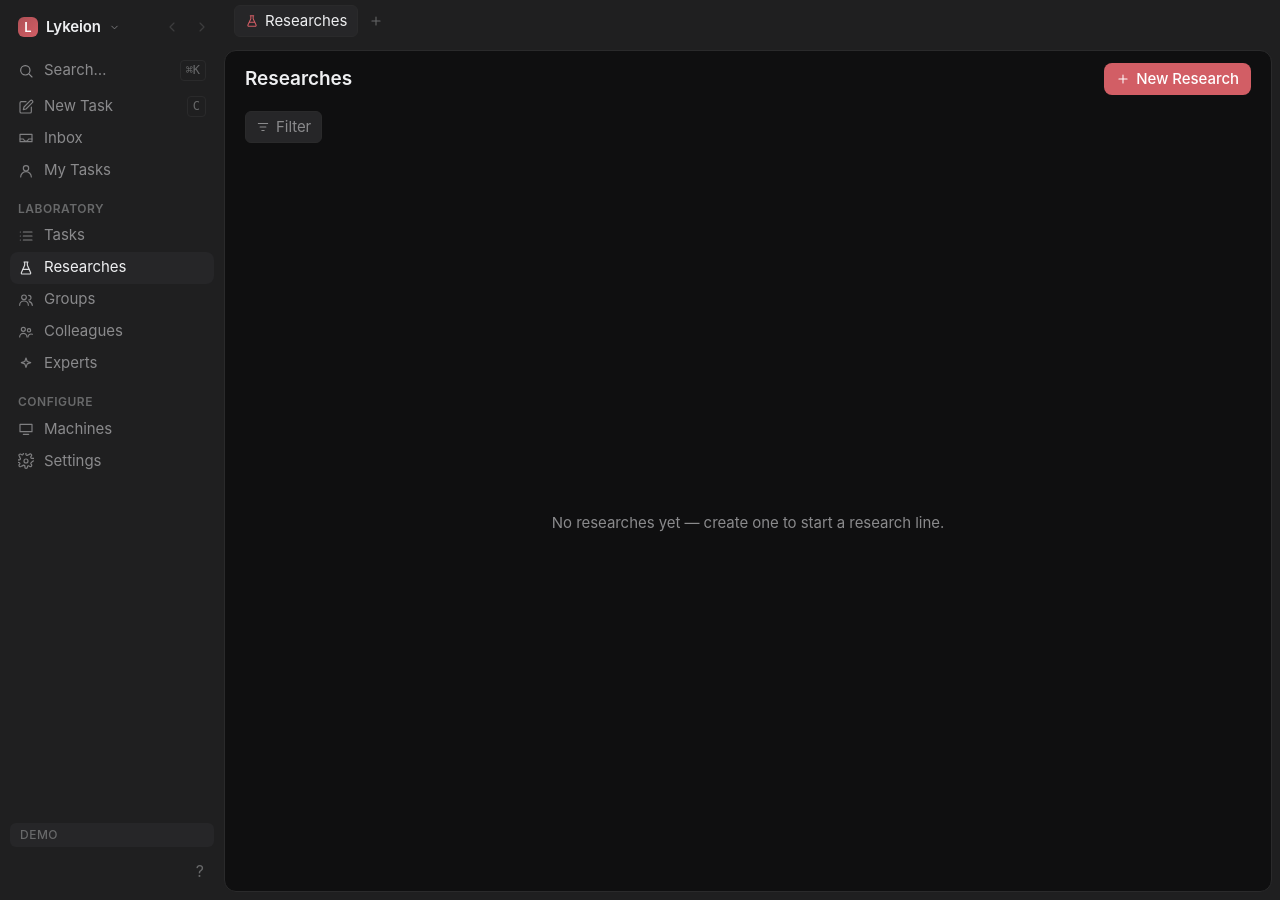
Test case: opens the account menu populated from currentUser()
This screenshot has width=1280, height=900.
Click the button with aria-label "Workspace".
click(69, 27)  # box [10,10,128,44]
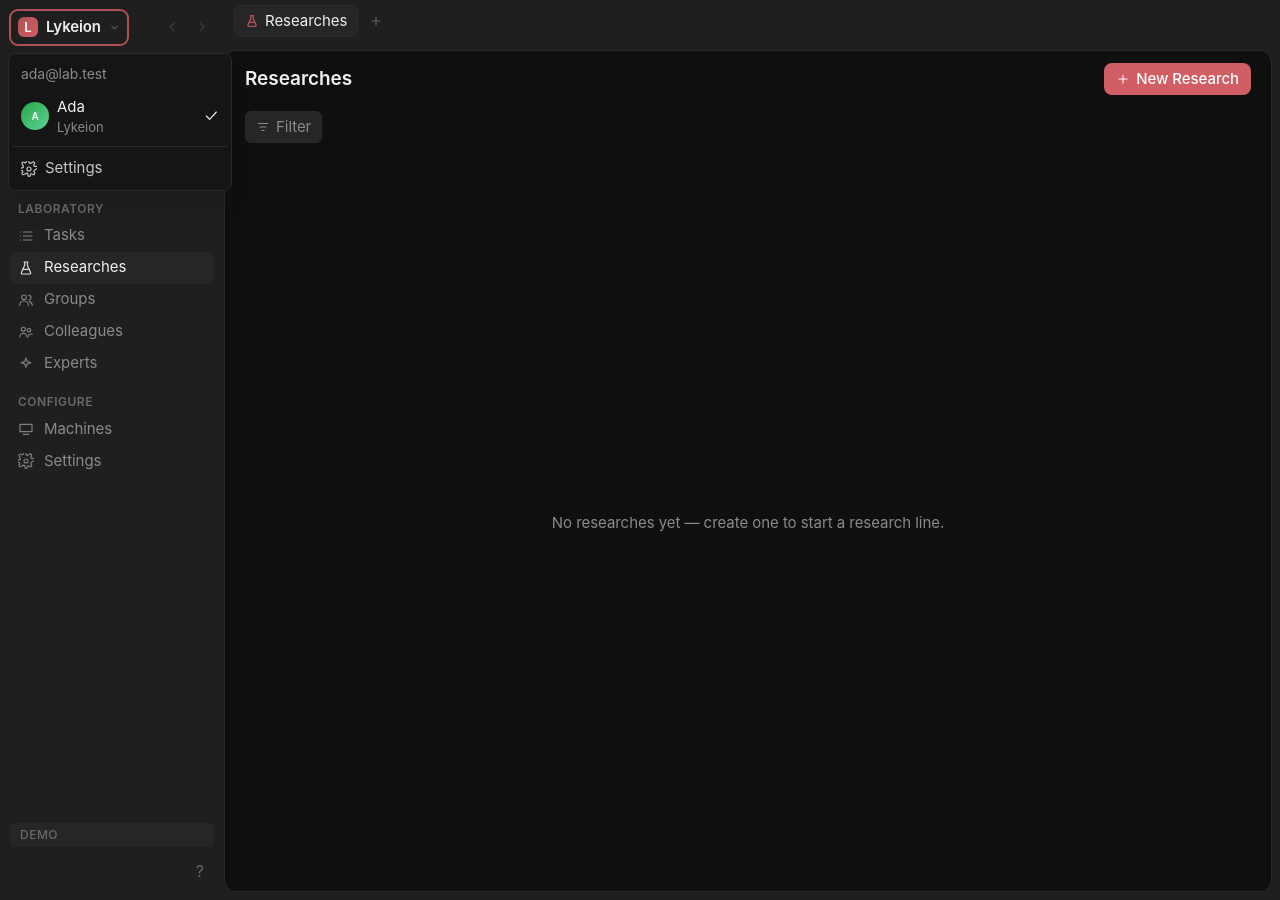
Expected: the text "Ada" is shown, [57,97,85,116]
Expected: the text "ada@lab.test" is shown, [21,64,107,82]
Expected: the text "Lykeion" is shown, [57,119,104,135]
